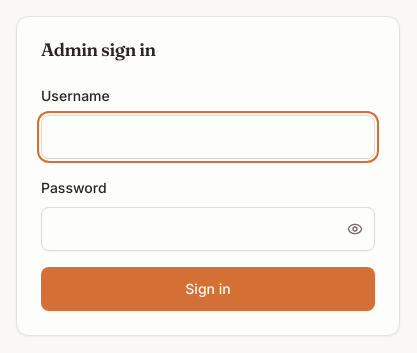
Test case: AdminLogin — show/hide password › F3/F4: reveals then re-masks, flipping the accessible label
The image size is (417, 353).
What coordinates should you click on to do the following:
click the button named "Show password"
I would click on:
 (355, 229)
Its box is [335,207,375,251].
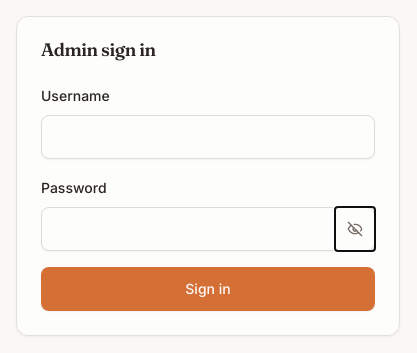
Now the button named "hide password" is shown
What coordinates should you click on to do the following:
click the button named "Hide password"
I would click on:
 (355, 229)
Its box is [335,207,375,251].
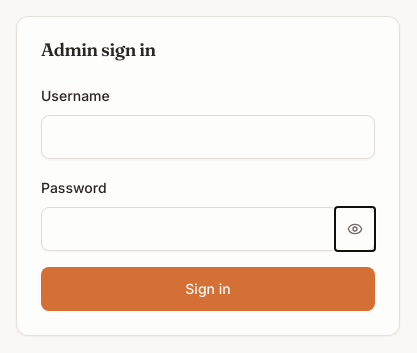
Now the button named "show password" is shown, box [335,207,375,251]
